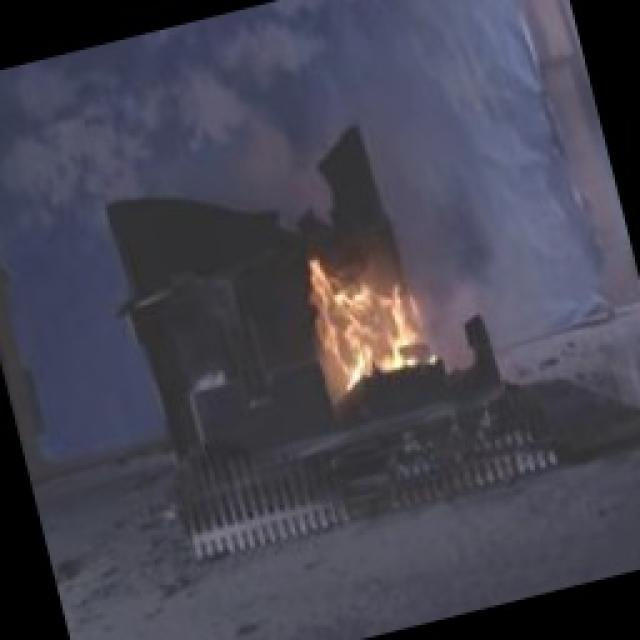fire: (264, 212, 461, 432)
